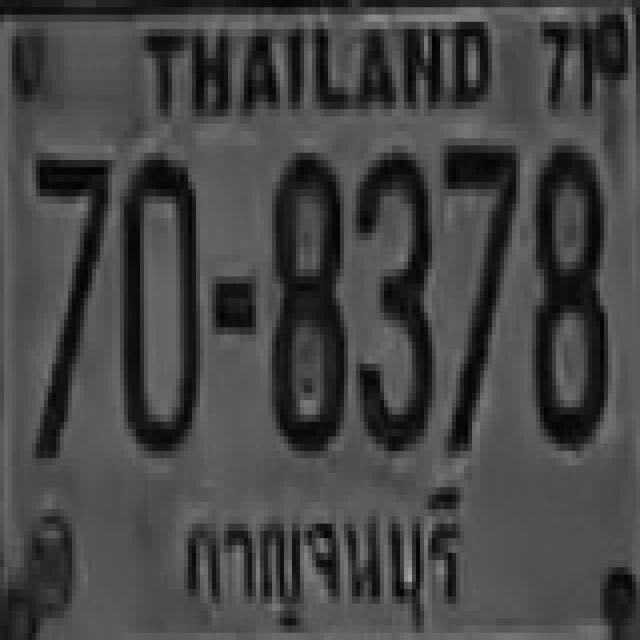0: (120, 149, 196, 447)
3: (354, 146, 430, 444)
7: (440, 138, 516, 444), (30, 149, 106, 455)
8: (268, 146, 344, 444), (532, 138, 604, 444)
Kanchanaburi: (172, 472, 492, 640)
